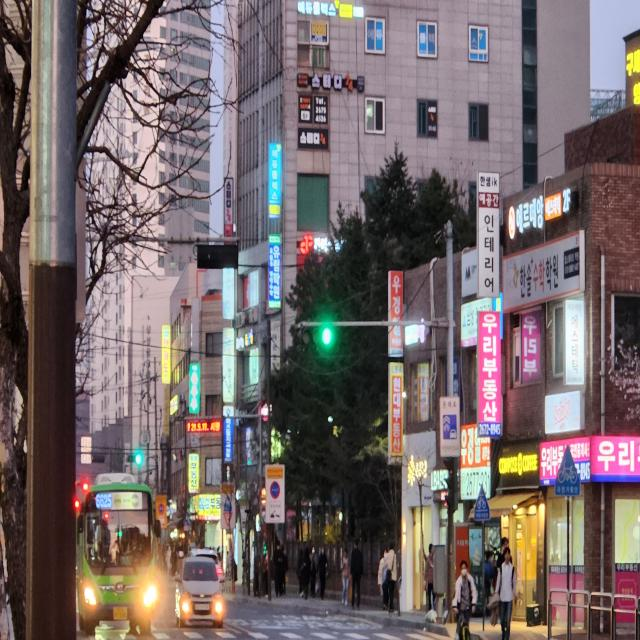Green Light: (319, 324, 334, 348), (135, 452, 143, 466)
